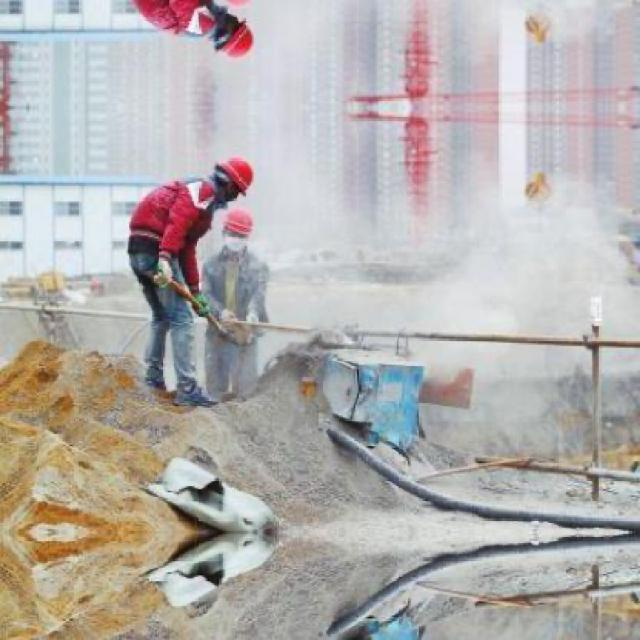con casco: (188, 128, 266, 222), (195, 201, 297, 257)
